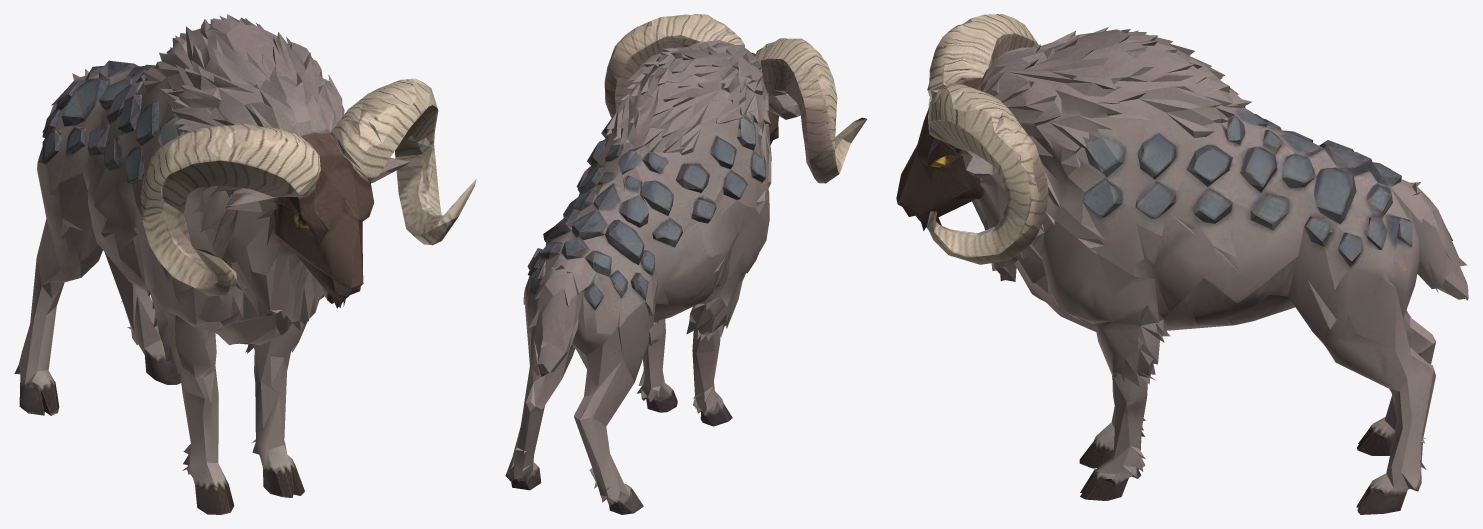
Rendered from ironhorn_ram.glb.
The picture shows the model from 3 angles, left to right: view 1: azimuth 30°, elevation 25°; view 2: azimuth 150°, elevation 25°; view 3: azimuth 270°, elevation 25°; orthographic projection. The views are drawn at different scales.
Bounding box in the file's own units: 1.07 × 1.64 × 1.9.
Materials: 1 (1 with a texture image).
